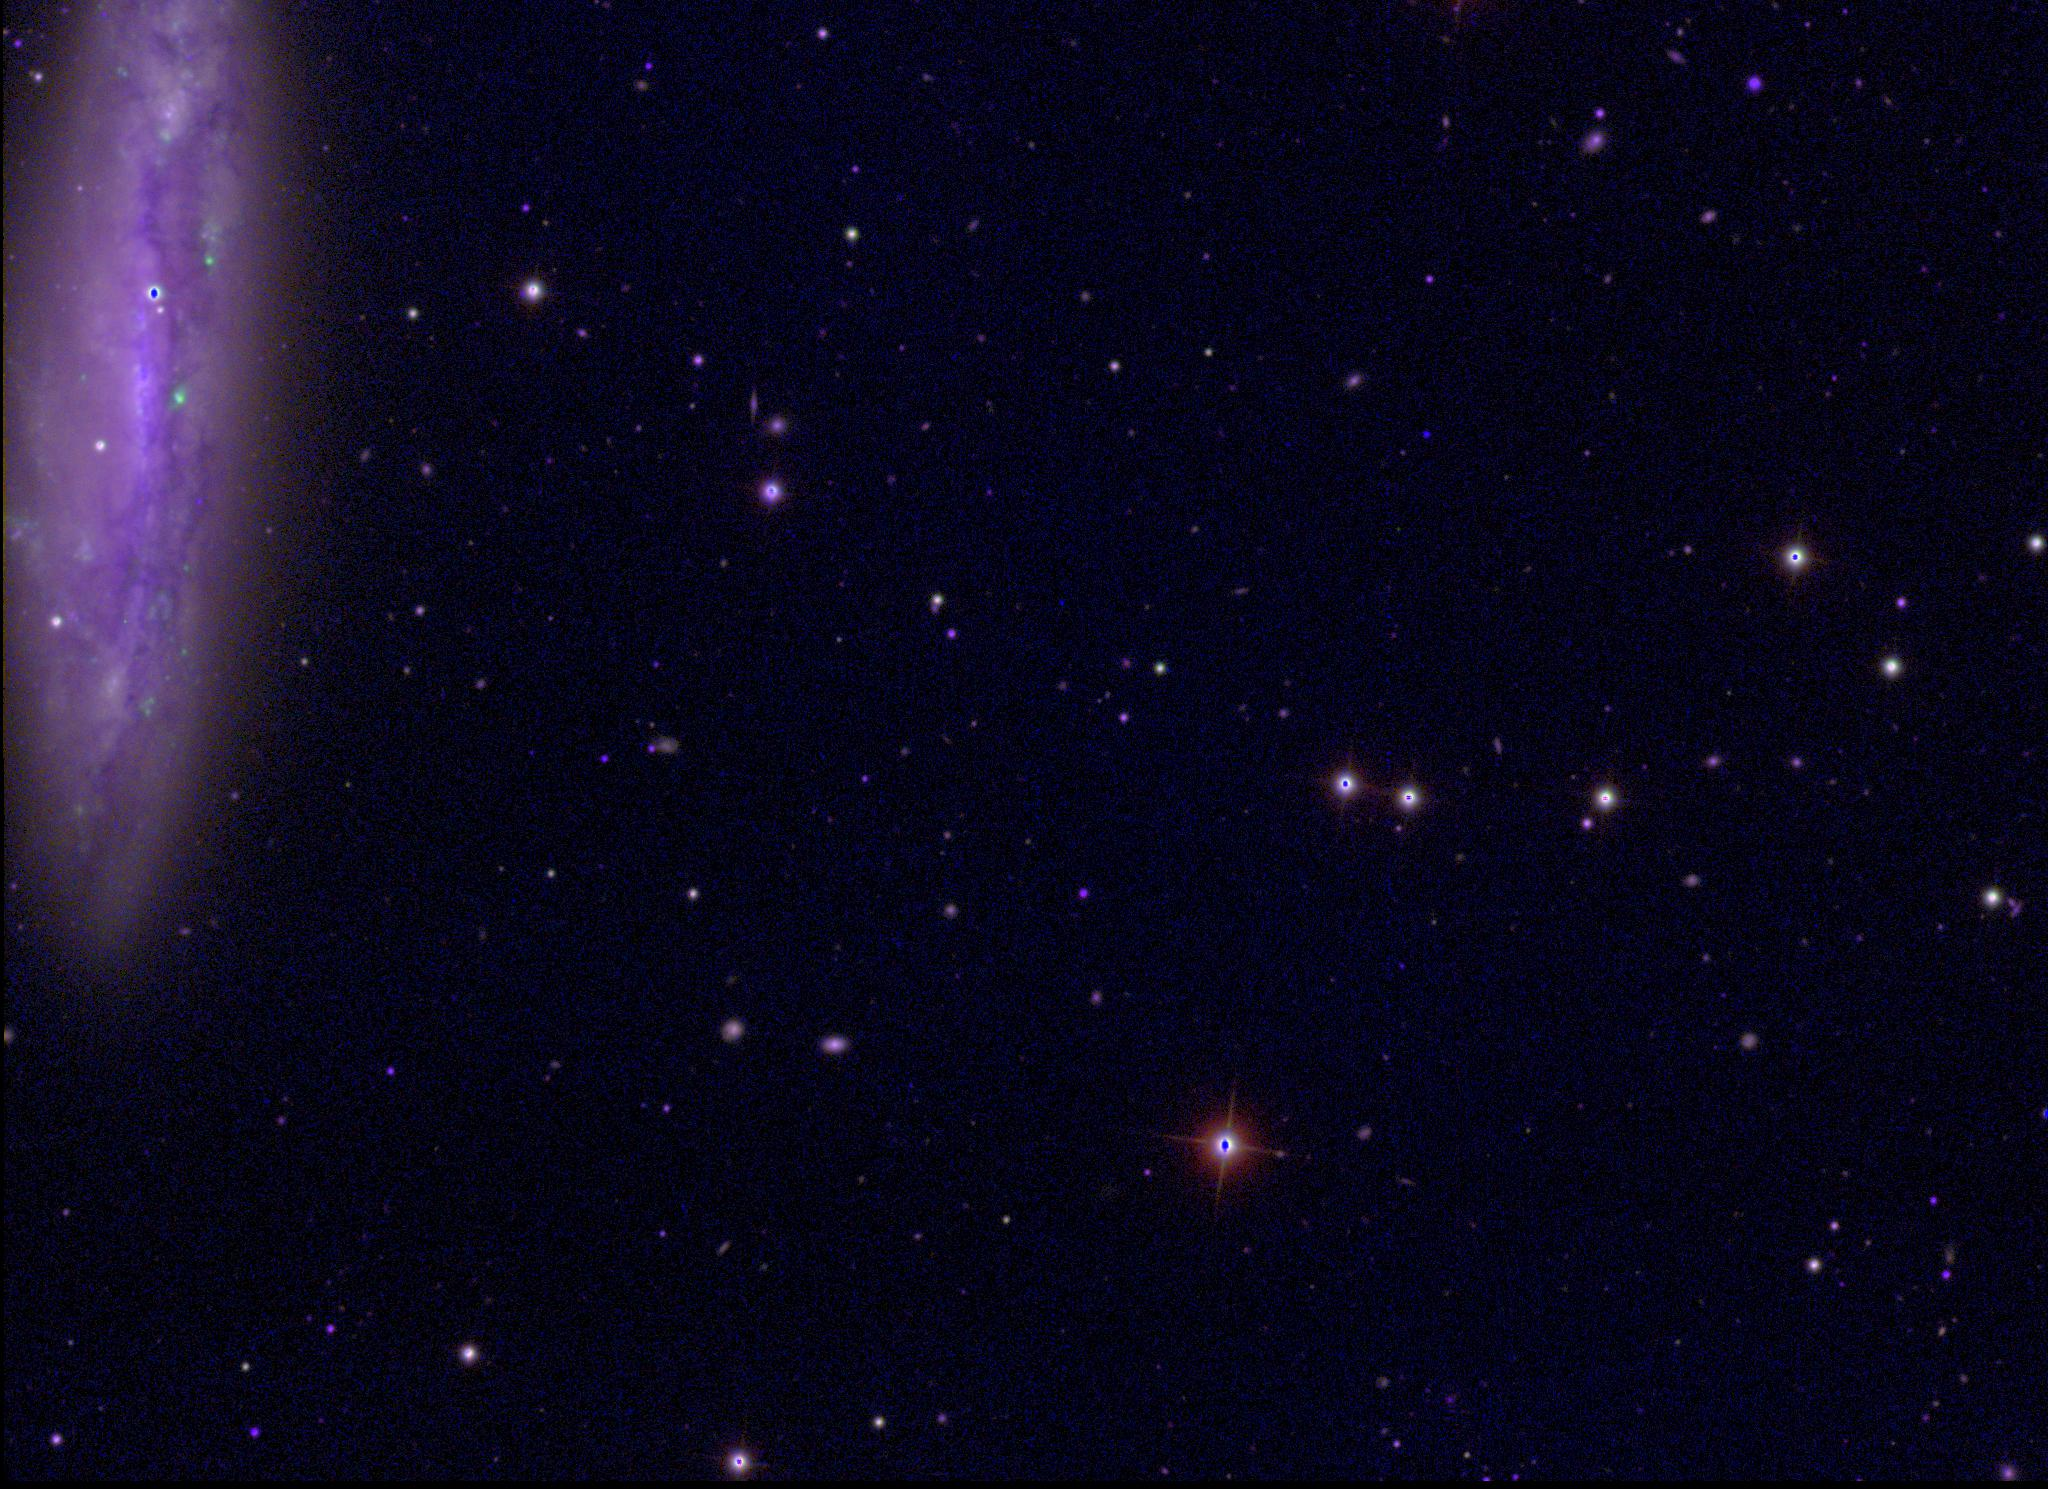L: (1420, 428, 1434, 442)
